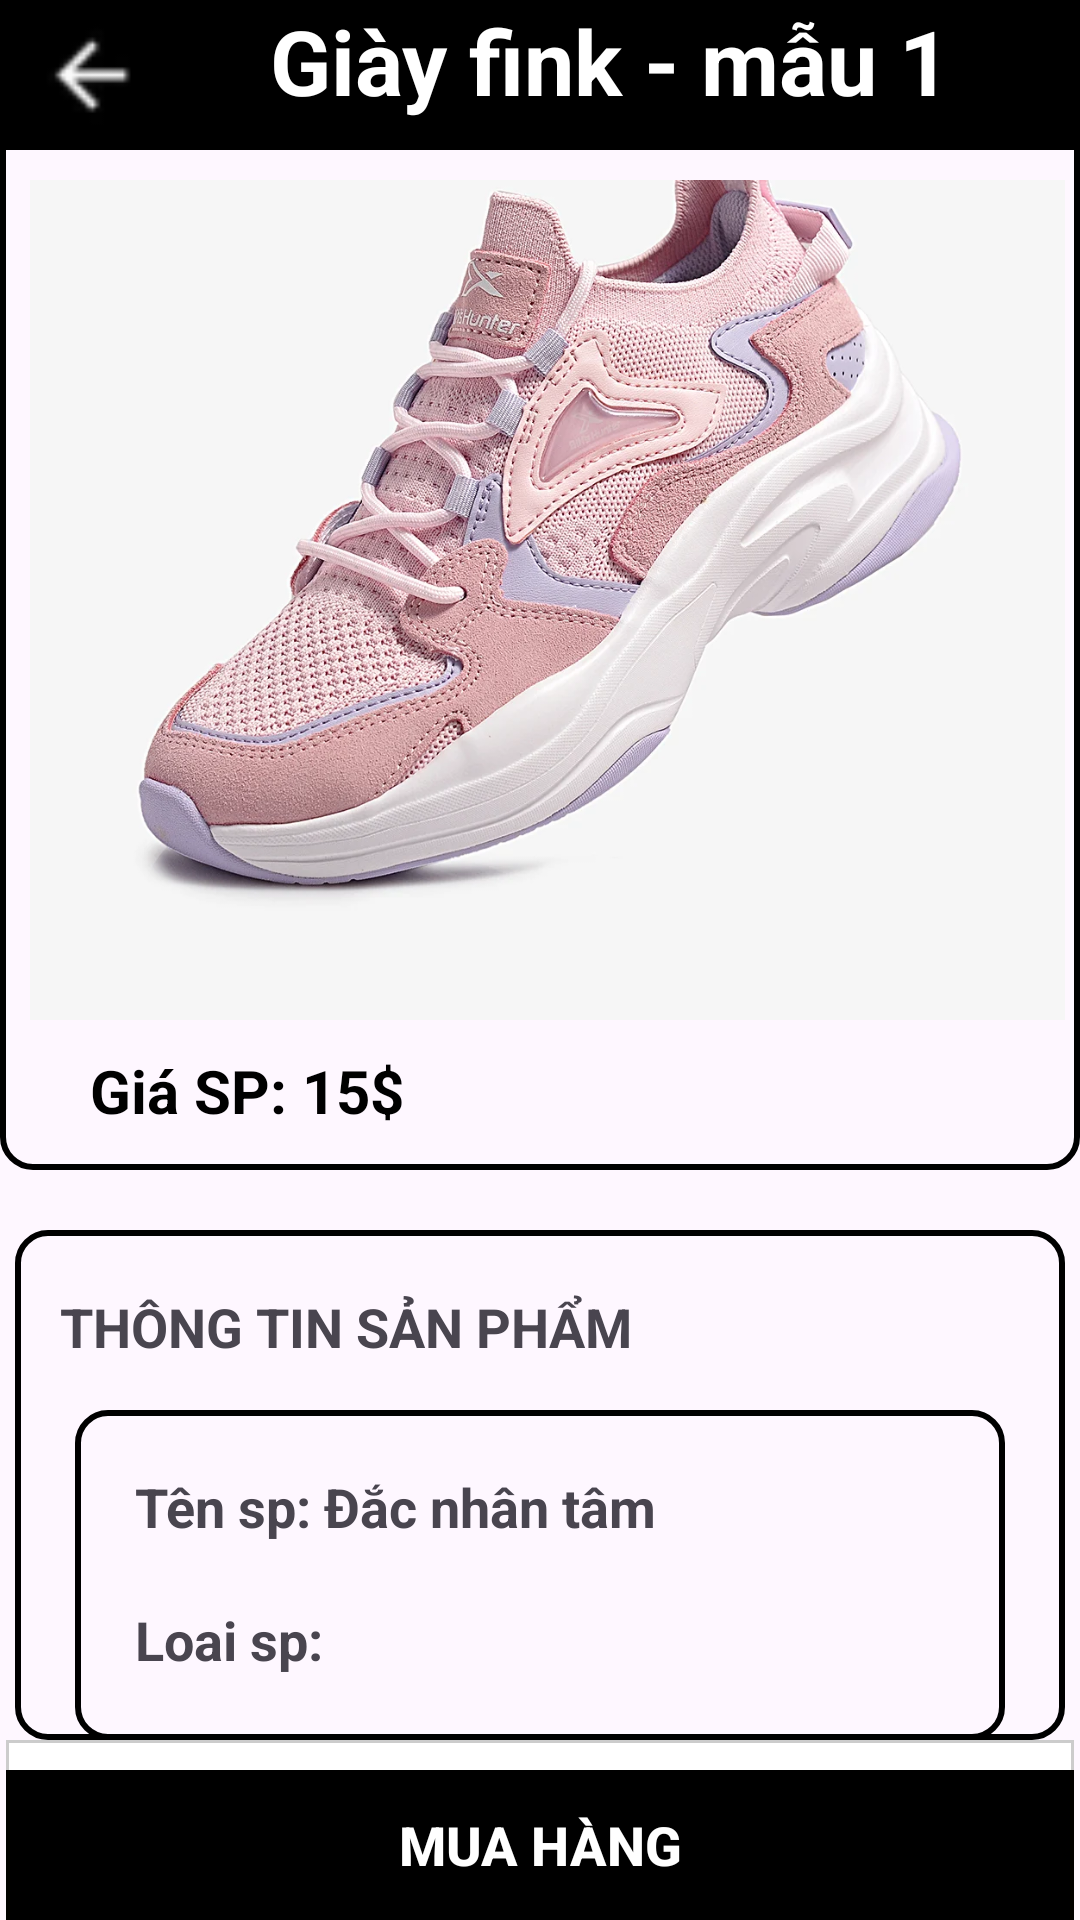

Icons on this 1080x1920 Android screen, each with its box as Rect(x1, y1, x2, y2):
back: Rect(55, 38, 130, 112)
